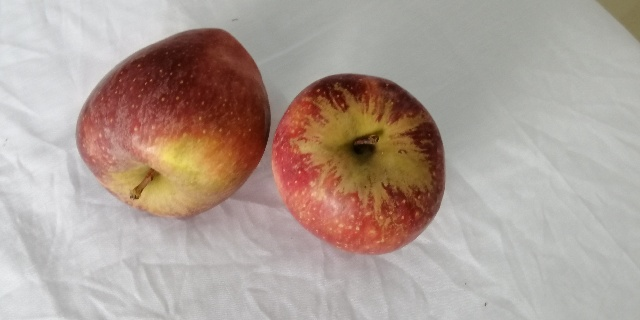apple_kashmir: (76, 23, 275, 218), (272, 76, 451, 255)
